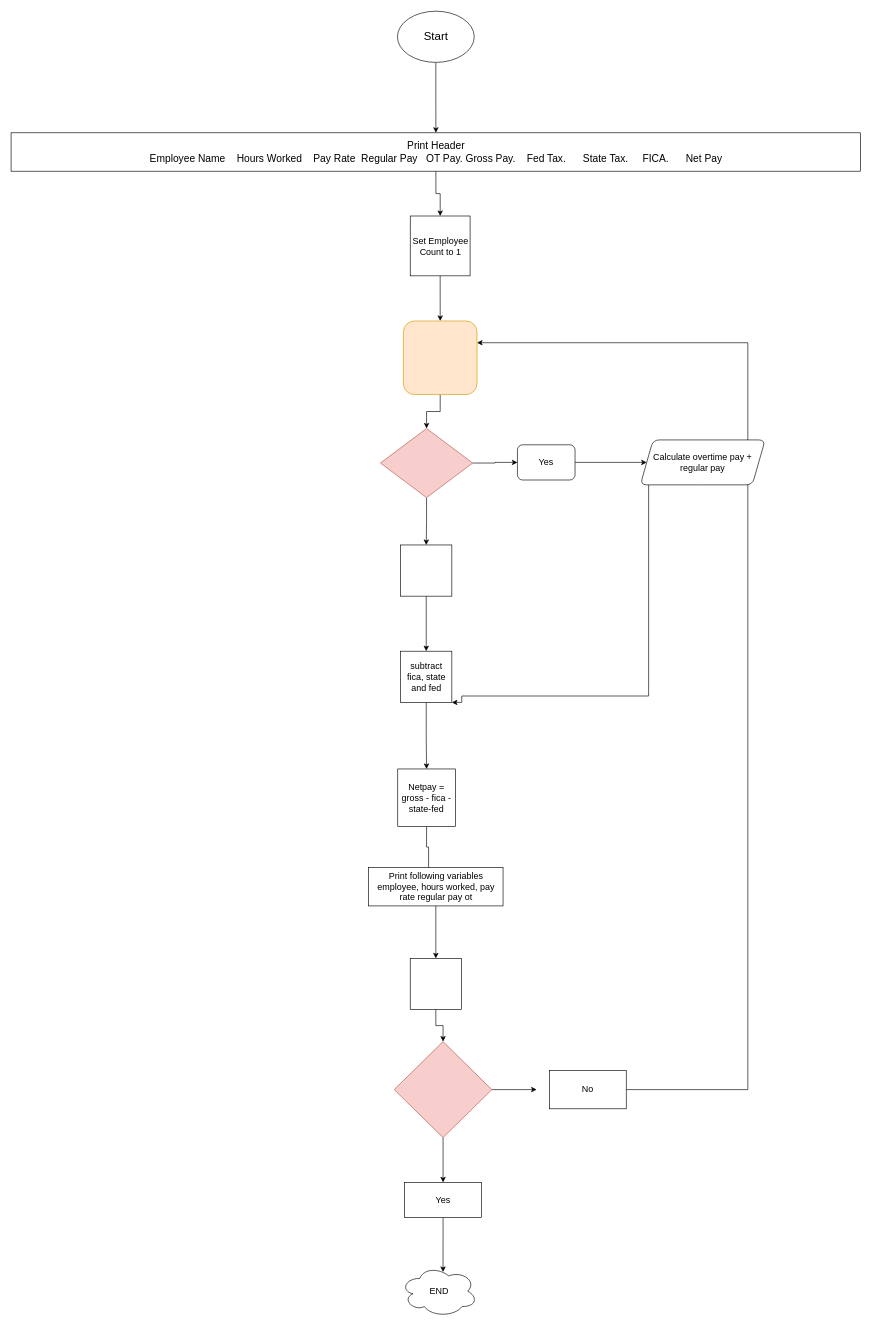
Image size: 872x1328. Some labels were removed from this diagram. Here are the shapes that lost their labels. From the top down, the box of each, then its label:
(403, 320, 477, 395): Input Employee Name Hours worked Pay Rate
(380, 428, 473, 498): Are hours over 40
(400, 544, 452, 596): Regular pay = hours * rate
(410, 958, 461, 1010): Add 1 to employee count
(394, 1041, 492, 1138): Is employee count >= 10
